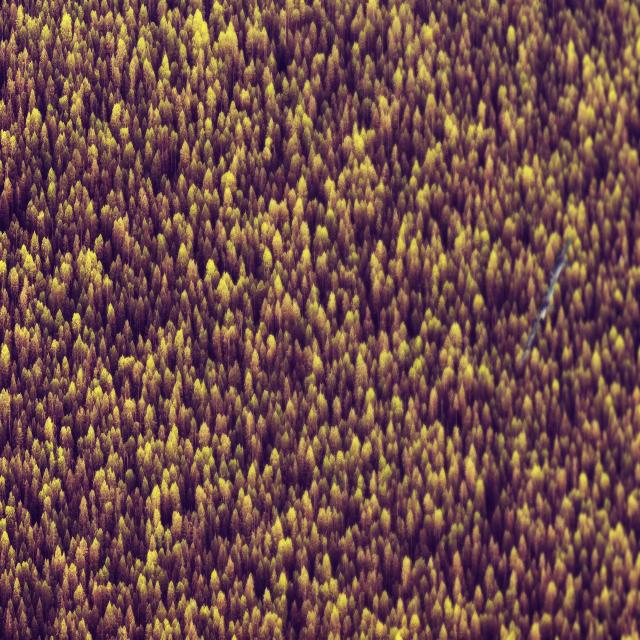airplane: (521, 236, 571, 364)
